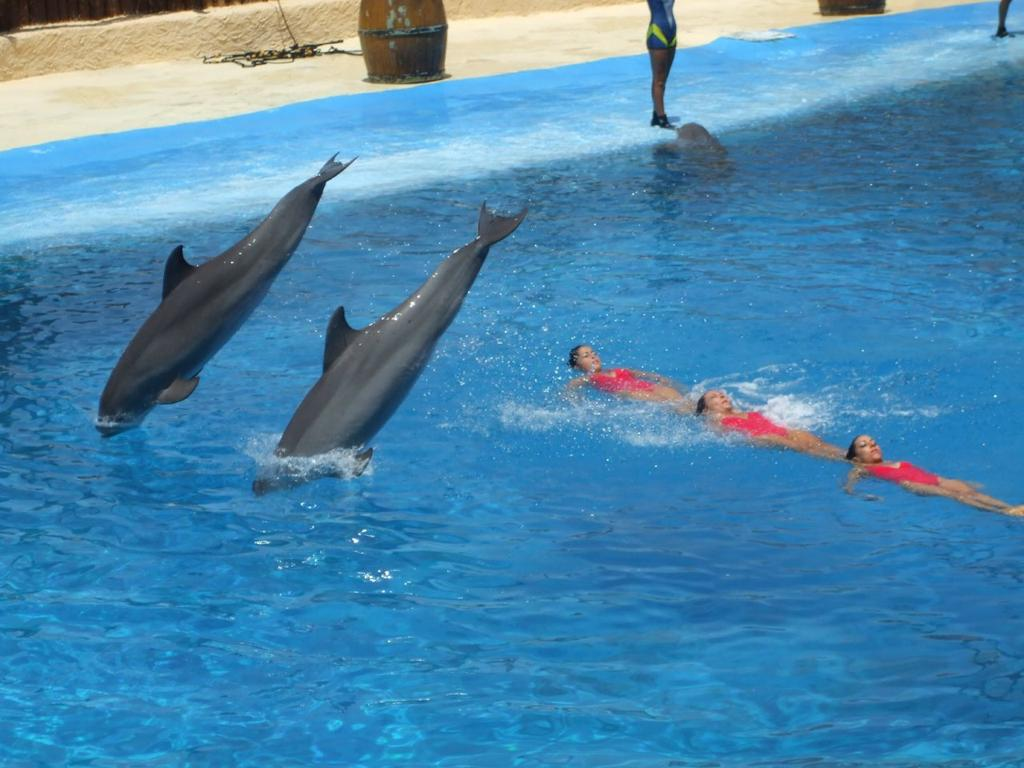face: (853, 434, 880, 461), (574, 344, 600, 370), (704, 389, 731, 410)
